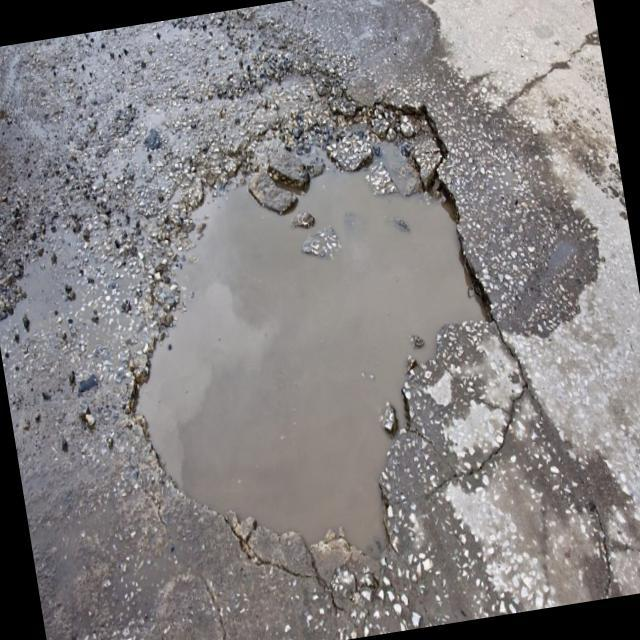Pothole: (91, 73, 525, 581)
